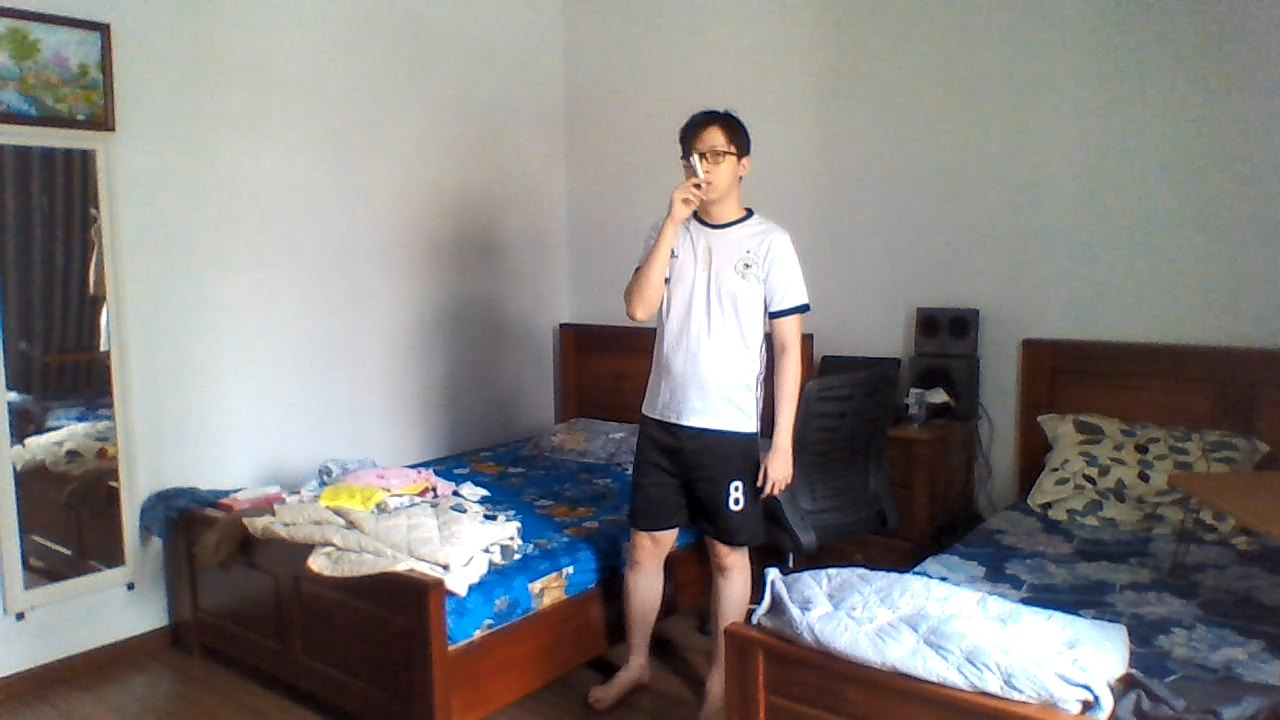cigarette: (692, 153, 706, 178)
person: (623, 105, 809, 567)
